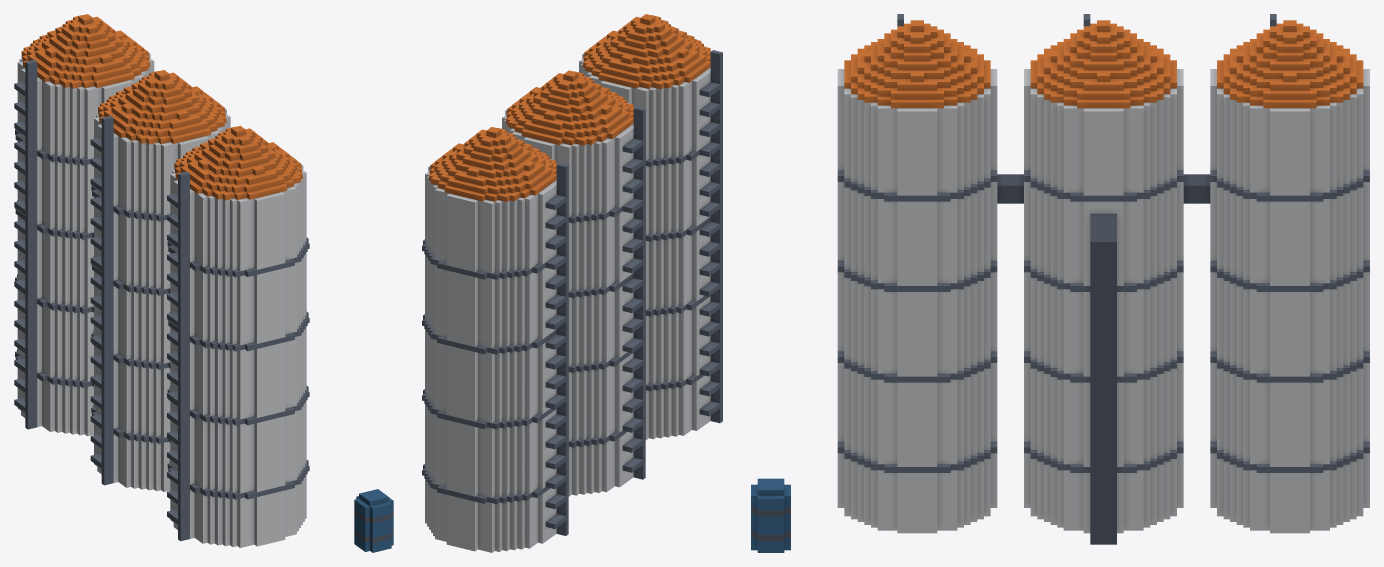
File: factory_e3_l2.glb
3 renders of one model, left to right at view 1: azimuth 30°, elevation 25°; view 2: azimuth 150°, elevation 25°; view 3: azimuth 270°, elevation 25°, orthographic. The views are drawn at different scales.
Parts seen in each view (by area): view 1: Base; view 2: Base; view 3: Base.
Boxes of the visible parts, bbox=[...] form: Base: bbox=[14, 14, 393, 552]; Base: bbox=[422, 14, 722, 552]; Base: bbox=[751, 14, 1369, 552].
Bounding box in the file's own units: 3.6 × 7.9 × 9.3.
